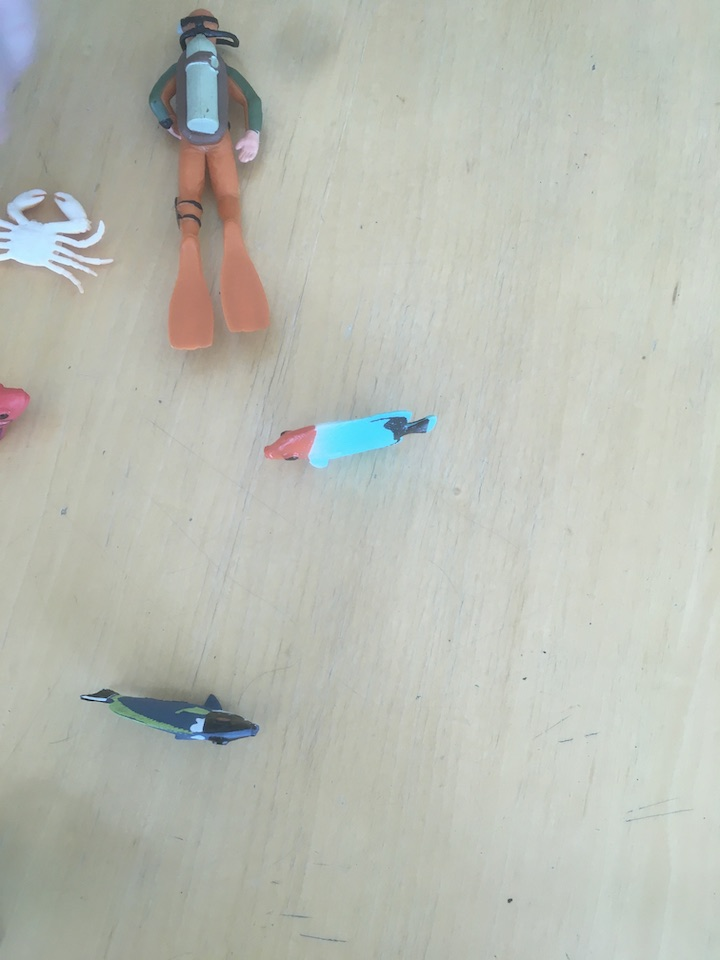crab: (1, 184, 118, 299)
diver: (148, 1, 286, 363)
fish: (78, 680, 274, 749), (256, 404, 437, 477), (1, 377, 39, 444)
